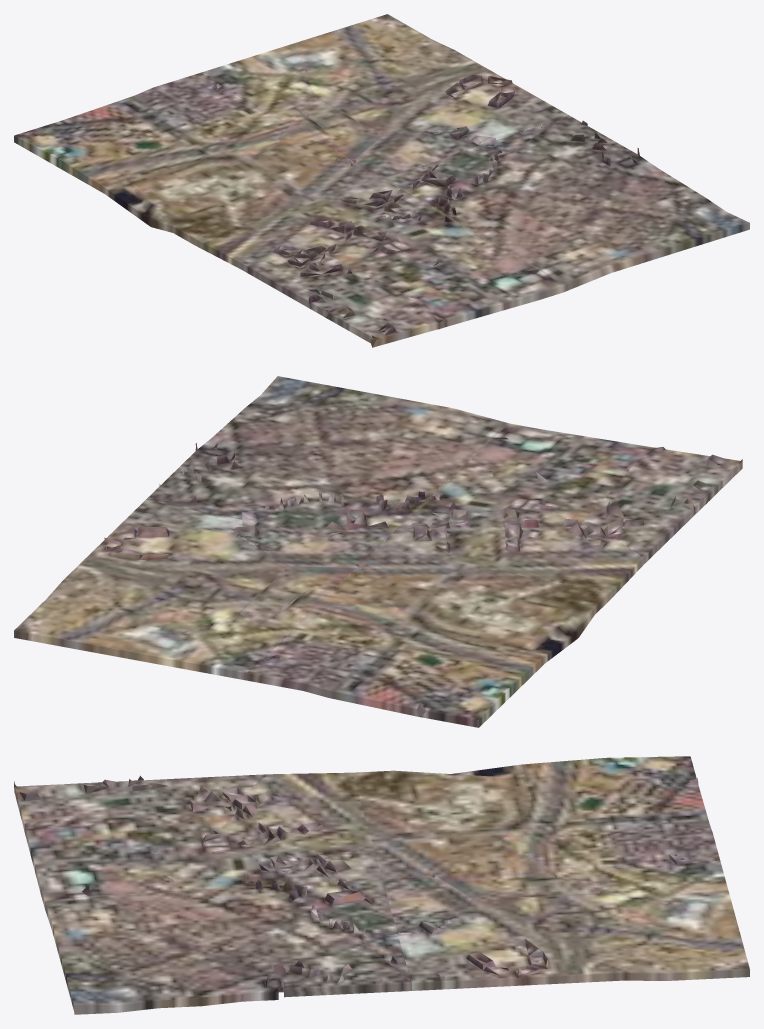
3 renders of one model, top to bottom at view 1: azimuth 30°, elevation 25°; view 2: azimuth 150°, elevation 25°; view 3: azimuth 270°, elevation 25°, orthographic. The views are drawn at different scales.
Visible parts, largest first — view 1: Mesh_0; view 2: Mesh_0; view 3: Mesh_0.
Part boxes in pixels (<box>): Mesh_0: <box>14,14,749,347</box>; Mesh_0: <box>14,376,742,727</box>; Mesh_0: <box>14,756,749,1014</box>.
Size of the model in its own units: 2132 by 118 by 2641.
Materials: 1 (1 with a texture image).
